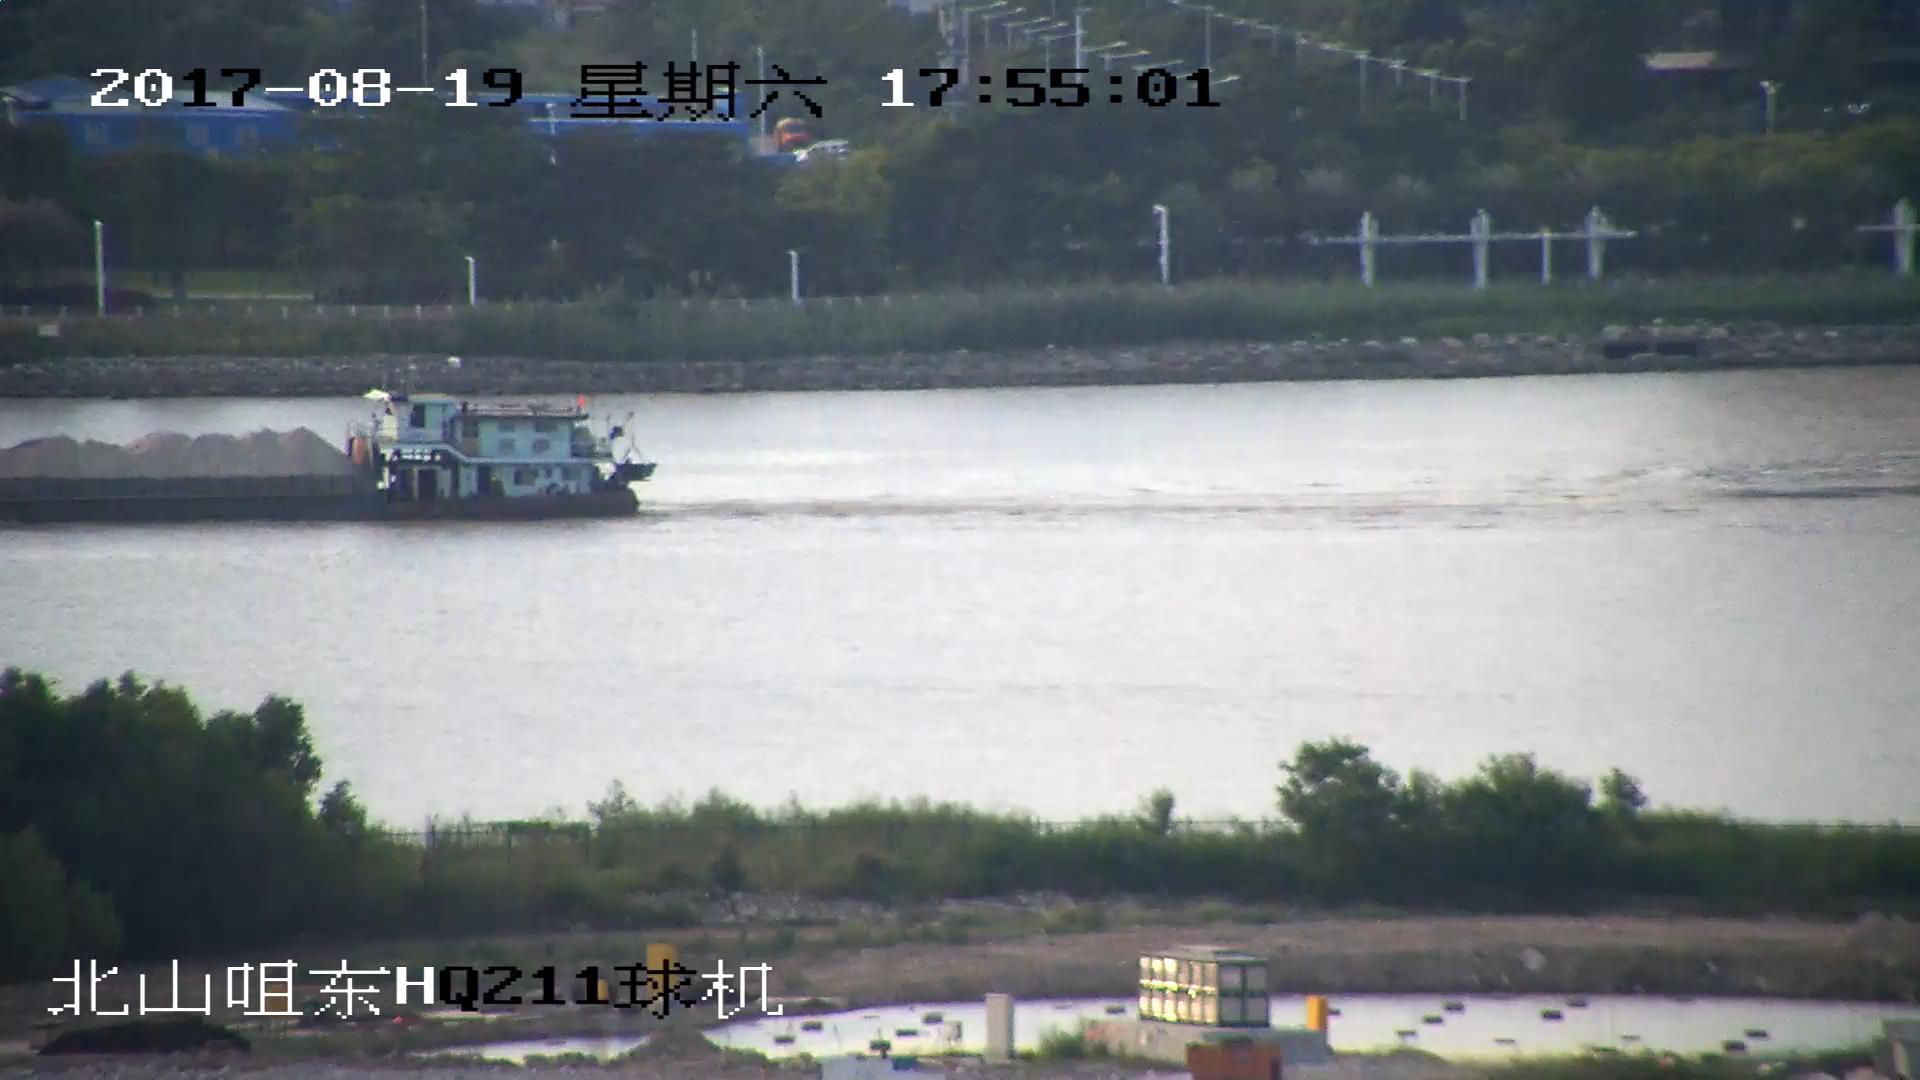Ship: (3, 385, 657, 525)
